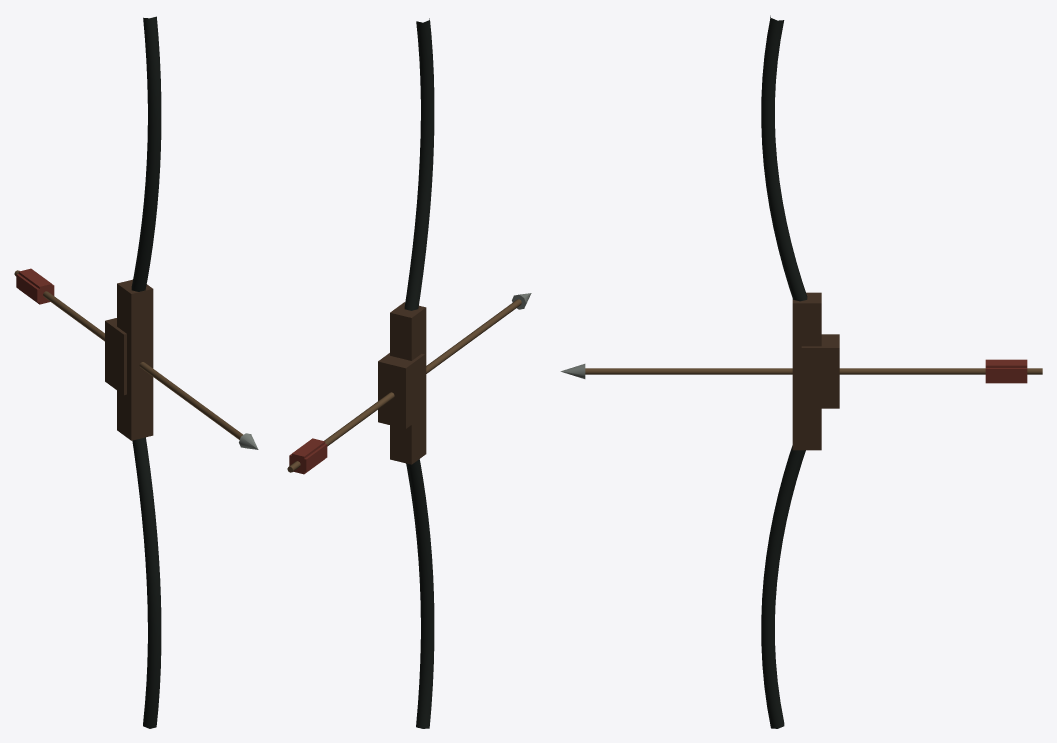
The model's file is bow-arrow.glb.
The picture shows the model from 3 angles, left to right: view 1: azimuth 30°, elevation 25°; view 2: azimuth 150°, elevation 25°; view 3: azimuth 270°, elevation 25°; orthographic projection.
Visible parts, largest first — view 1: bow-riser, bow-lower-limb, bow-upper-limb, bow-arrow-shaft, bow-grip, bow-fletching-a, bow-fletching-b; view 2: bow-upper-limb, bow-lower-limb, bow-riser, bow-grip, bow-arrow-shaft, bow-fletching-a, bow-fletching-b; view 3: bow-upper-limb, bow-lower-limb, bow-riser, bow-grip, bow-arrow-shaft.
Boxes of the visible parts, left/top/right/bottom form: bow-riser: left=117, top=279, right=153, bottom=440; bow-lower-limb: left=132, top=437, right=161, bottom=728; bow-upper-limb: left=131, top=16, right=161, bottom=291; bow-arrow-shaft: left=14, top=270, right=243, bottom=439; bow-grip: left=105, top=318, right=126, bottom=395; bow-fletching-a: left=16, top=274, right=54, bottom=302; bow-fletching-b: left=18, top=268, right=52, bottom=304; bow-upper-limb: left=404, top=18, right=434, bottom=310; bow-lower-limb: left=406, top=459, right=434, bottom=728; bow-riser: left=390, top=302, right=426, bottom=464; bow-grip: left=378, top=353, right=424, bottom=428; bow-arrow-shaft: left=287, top=299, right=521, bottom=472; bow-fletching-a: left=289, top=443, right=327, bottom=472; bow-fletching-b: left=291, top=438, right=325, bottom=474; bow-upper-limb: left=761, top=15, right=807, bottom=301; bow-lower-limb: left=761, top=445, right=805, bottom=728; bow-riser: left=792, top=292, right=821, bottom=450; bow-grip: left=801, top=334, right=839, bottom=408; bow-arrow-shaft: left=585, top=368, right=1042, bottom=374.
Bounding box in the file's own units: 0.058 × 1.4 × 0.8645.
